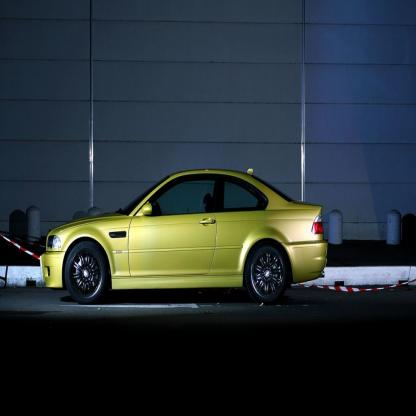Car: (37, 166, 325, 313)
